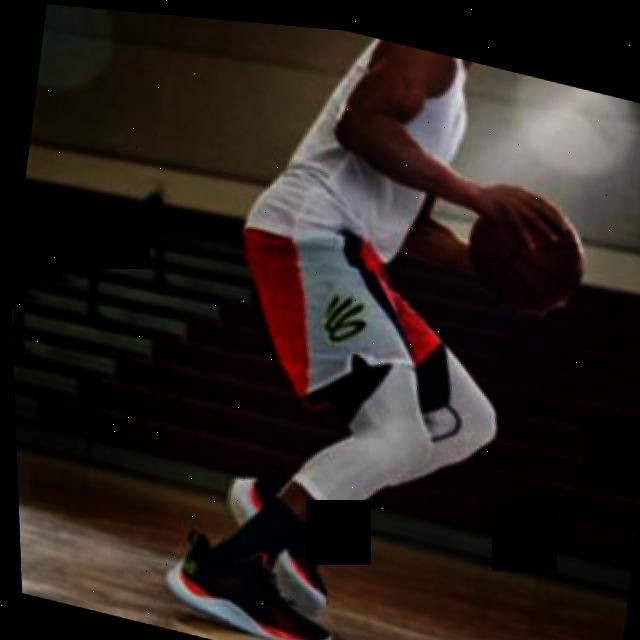shoe: (154, 517, 340, 640), (209, 452, 341, 612)
